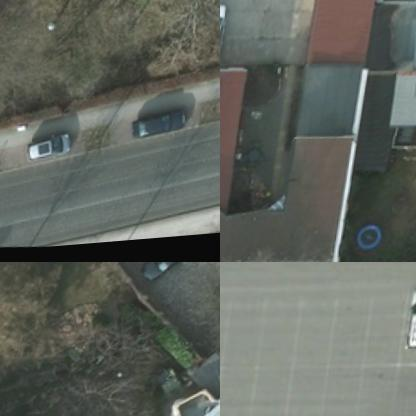car: (138, 113, 200, 148), (31, 133, 84, 165), (145, 262, 199, 289), (220, 5, 234, 67)
